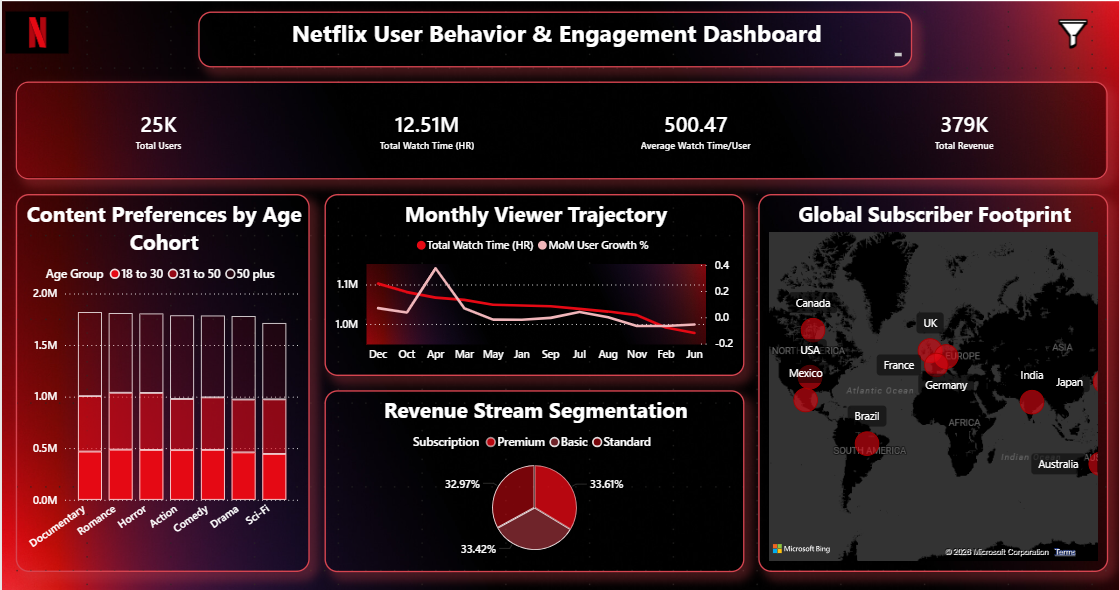

The page's visual inventory and layout, read from the dashboard file:
{"tool":"powerbi","page":{"name":"Platform Engagement Insights","canvas":[1280,720],"ordinal":0},"visuals":[{"type":"image","box":[0,32,80,48],"z":0},{"type":"textbox","title":"Netflix User Behavior & Engagement Dashboard","box":[224,32,816,64],"z":1000},{"type":"lineChart","title":"Monthly Viewer Trajectory","fields":{"Category":["Date Table.Month"],"Y":["Netflix user data.Total Watch Time (HR)"],"Y2":["Netflix user data.MoM User Growth %"]},"box":[368,240,480,208],"z":2000},{"type":"pieChart","title":"Revenue Stream Segmentation","fields":{"Category":["Netflix user data.Subscription Type"],"Y":["Netflix user data.Total Users"]},"box":[368,464,480,208],"z":3000},{"type":"map","title":"Global Subscriber Footprint","fields":{"Category":["Netflix user data.Country"],"Size":["Netflix user data.Total Users"]},"box":[864,240,400,432],"z":4000},{"type":"columnChart","title":"Content Preferences by Age Cohort","fields":{"Category":["Netflix user data.Favorite Genre"],"Series":["Netflix user data.Age Group"],"Y":["Netflix user data.Total Watch Time (HR)"]},"box":[16,240,336,432],"z":5000},{"type":"cardVisual","fields":{"Data":["Netflix user data.Total Users","Netflix user data.Total Watch Time (HR)","Netflix user data.Average Watch Time Per User","Netflix user data.Total Revenue"]},"box":[16,112,1248,112],"z":6000}]}

Visuals, with their boxes on the page's 1280x720 design canvas (x1, y1, x2, y2). These are canvas units, not pixel positions in the 1119x590 screenshot, which may show the page scaled, cropped or inside an application window:
image: [0,32,80,80]
"Netflix User Behavior & Engagement Dashboard" textbox: [224,32,1040,96]
"Monthly Viewer Trajectory" lineChart: [368,240,848,448]
"Revenue Stream Segmentation" pieChart: [368,464,848,672]
"Global Subscriber Footprint" map: [864,240,1264,672]
"Content Preferences by Age Cohort" columnChart: [16,240,352,672]
cardVisual - Netflix user data.Total Users x Netflix user data.Total Watch Time (HR): [16,112,1264,224]
